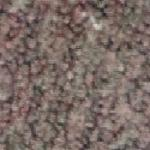alive: (3, 3, 147, 149)
